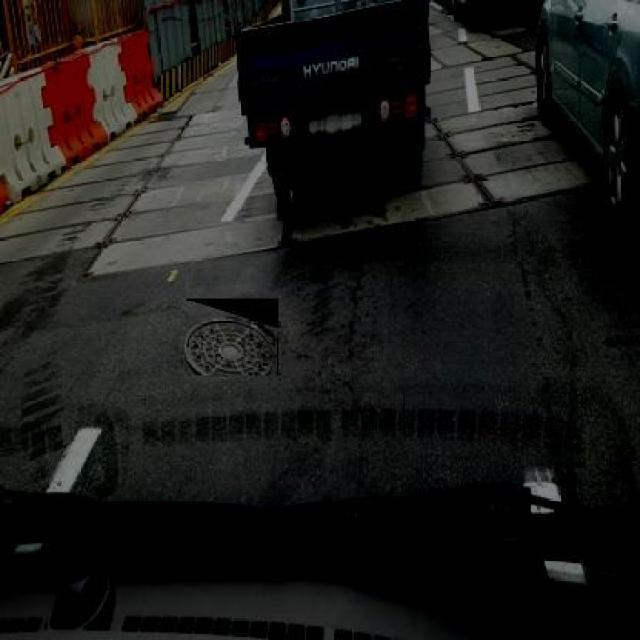Manhole: (184, 299, 278, 376)
